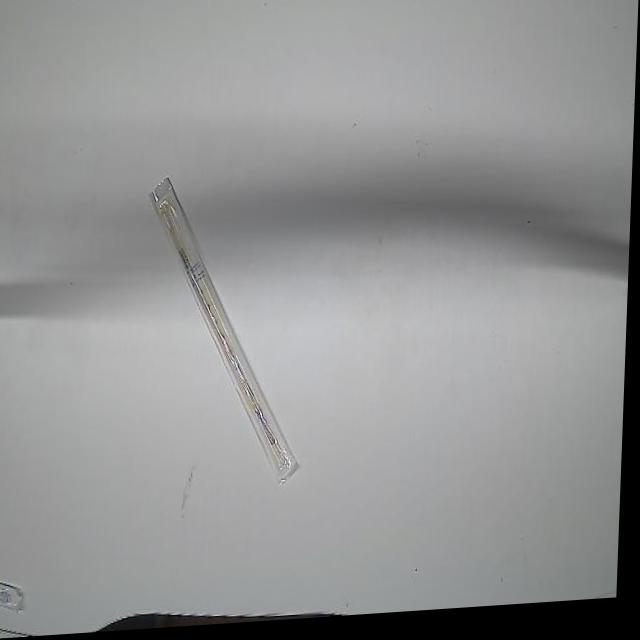Serelogical Pipet 1 mL: (137, 163, 319, 503)
